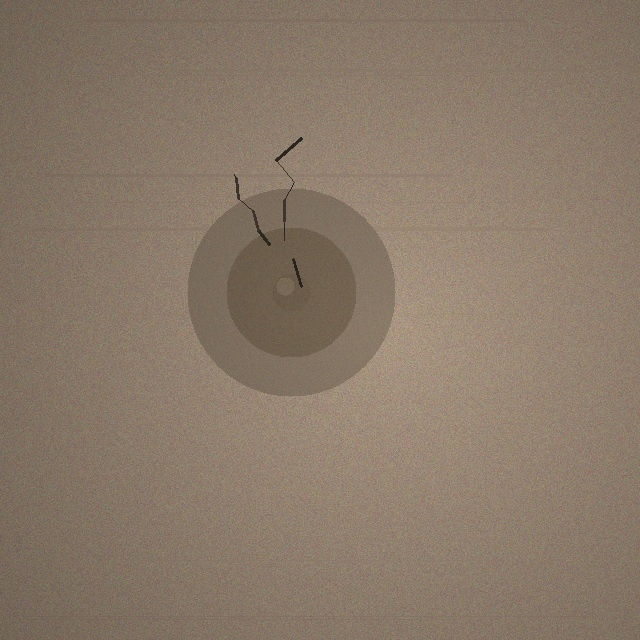crack: (187, 188, 395, 396)
